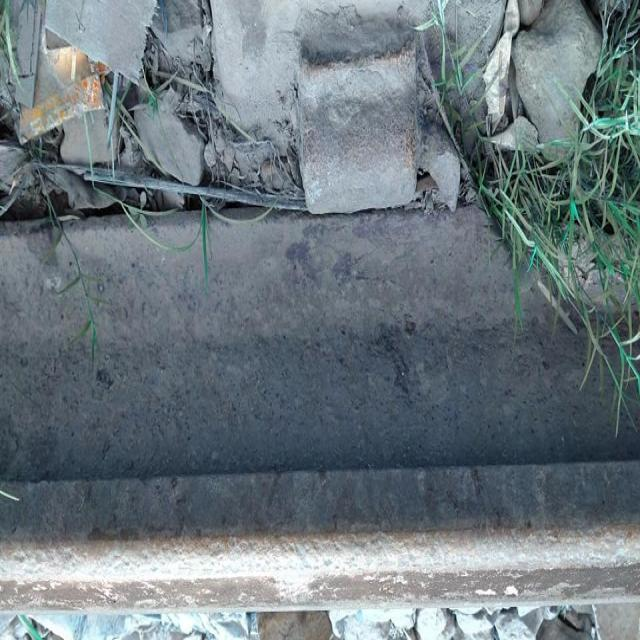Missing Fastener: (275, 50, 467, 231)
